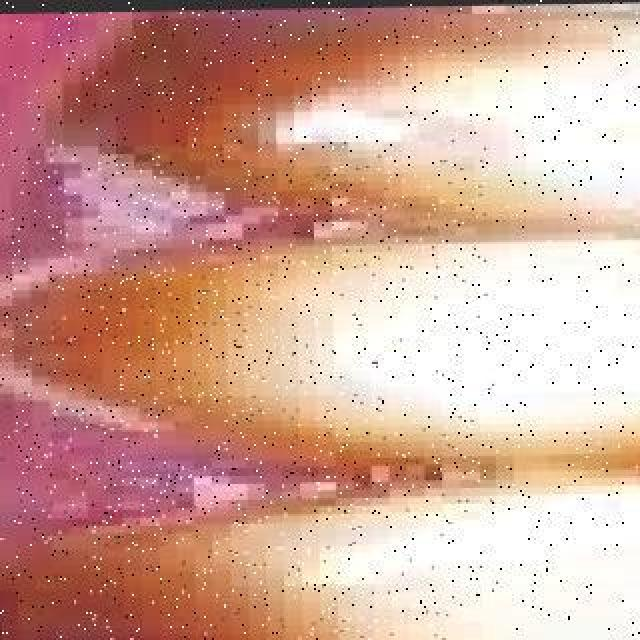stains: (12, 254, 416, 458), (8, 534, 562, 640), (93, 30, 465, 168)
